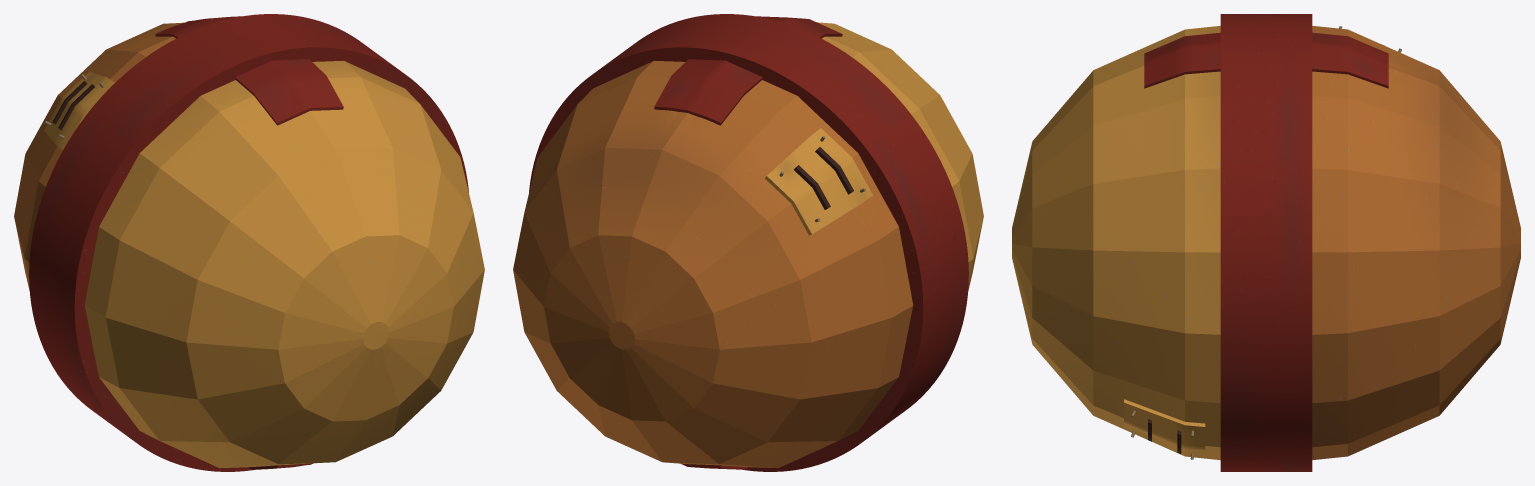
3 renders of one model, left to right at view 1: azimuth 30°, elevation 25°; view 2: azimuth 150°, elevation 25°; view 3: azimuth 270°, elevation 25°, orthographic.
Visible parts, largest first — view 1: Artemian Star-Shatterer forward metal shell, Artemian Star-Shatterer orange transverse belt, Artemian Star-Shatterer rear metal shell, Artemian Star-Shatterer orange longitudinal strap 1, Artemian Star-Shatterer service cover 1, Artemian Star-Shatterer orange longitudinal strap 3; view 2: Artemian Star-Shatterer rear metal shell, Artemian Star-Shatterer orange transverse belt, Artemian Star-Shatterer forward metal shell, Artemian Star-Shatterer service cover 1, Artemian Star-Shatterer orange longitudinal strap 3, Artemian Star-Shatterer orange longitudinal strap 1; view 3: Artemian Star-Shatterer rear metal shell, Artemian Star-Shatterer forward metal shell, Artemian Star-Shatterer orange transverse belt, Artemian Star-Shatterer orange longitudinal strap 1, Artemian Star-Shatterer orange longitudinal strap 3, Artemian Star-Shatterer service cover 0.
Part boxes in pixels (left/top/right/bottom): Artemian Star-Shatterer forward metal shell: left=84, top=60, right=484, bottom=468; Artemian Star-Shatterer orange transverse belt: left=29, top=14, right=468, bottom=471; Artemian Star-Shatterer rear metal shell: left=14, top=22, right=183, bottom=290; Artemian Star-Shatterer orange longitudinal strap 1: left=235, top=59, right=343, bottom=125; Artemian Star-Shatterer service cover 1: left=44, top=72, right=114, bottom=149; Artemian Star-Shatterer orange longitudinal strap 3: left=155, top=16, right=241, bottom=38; Artemian Star-Shatterer rear metal shell: left=513, top=60, right=913, bottom=468; Artemian Star-Shatterer orange transverse belt: left=529, top=14, right=968, bottom=471; Artemian Star-Shatterer forward metal shell: left=817, top=22, right=983, bottom=290; Artemian Star-Shatterer service cover 1: left=765, top=128, right=872, bottom=235; Artemian Star-Shatterer orange longitudinal strap 3: left=654, top=59, right=762, bottom=125; Artemian Star-Shatterer orange longitudinal strap 1: left=756, top=16, right=842, bottom=38; Artemian Star-Shatterer rear metal shell: left=1312, top=26, right=1520, bottom=459; Artemian Star-Shatterer forward metal shell: left=1012, top=26, right=1220, bottom=459; Artemian Star-Shatterer orange transverse belt: left=1220, top=14, right=1312, bottom=471; Artemian Star-Shatterer orange longitudinal strap 1: left=1144, top=32, right=1220, bottom=88; Artemian Star-Shatterer orange longitudinal strap 3: left=1312, top=32, right=1388, bottom=88; Artemian Star-Shatterer service cover 0: left=1124, top=399, right=1205, bottom=456.
Size of the model in its own units: 0.9 by 0.9 by 1.
5 materials, 3 textured.
